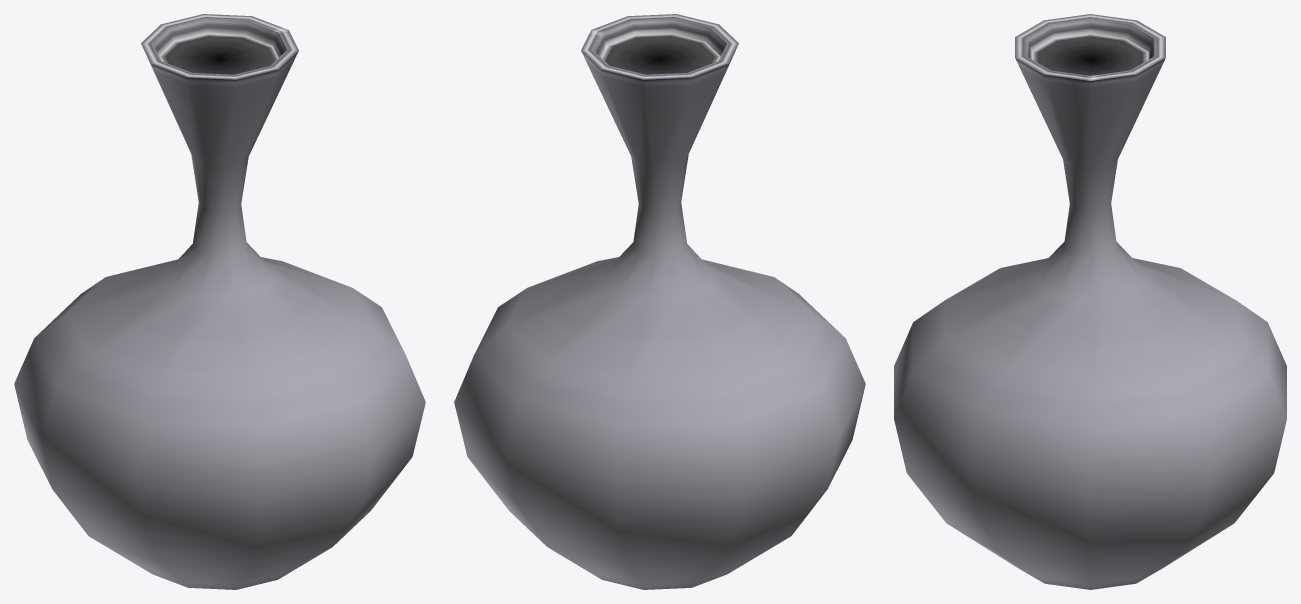
Rendered from Vase01A.FBX.
3 renders of one model, left to right at view 1: azimuth 30°, elevation 25°; view 2: azimuth 150°, elevation 25°; view 3: azimuth 270°, elevation 25°, orthographic.
Visible parts, largest first — view 1: Vase01; view 2: Vase01; view 3: Vase01.
Part boxes in pixels (<box>): Vase01: <box>14,14,425,589</box>; Vase01: <box>454,14,865,589</box>; Vase01: <box>894,14,1286,589</box>.
Bounding box in the file's own units: 38.02 × 36.16 × 51.77.
